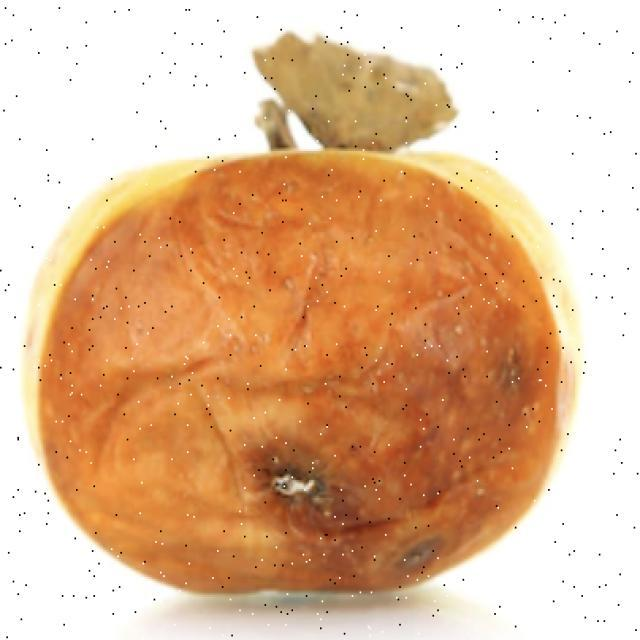Rotten: (43, 135, 560, 640)
